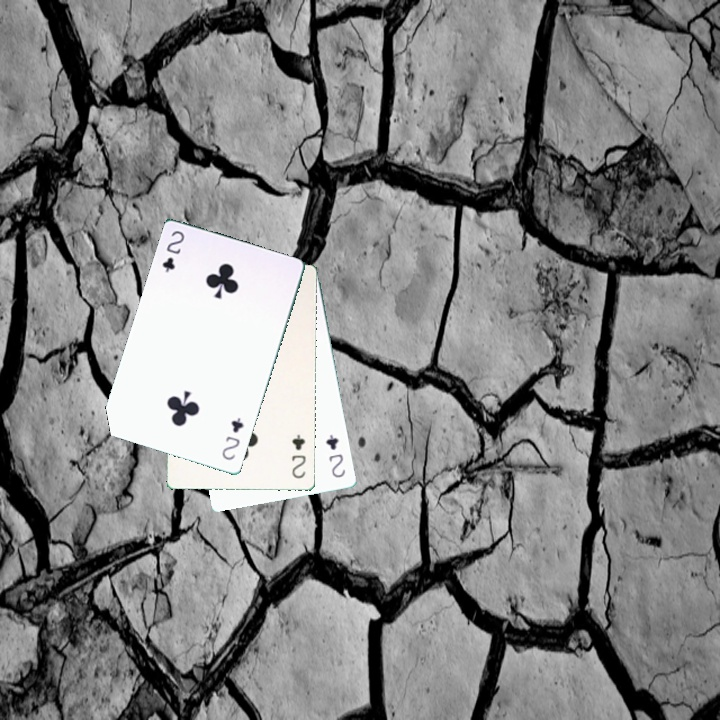2c: (218, 414, 247, 463), (158, 226, 187, 275), (322, 431, 348, 480), (287, 430, 308, 481)
